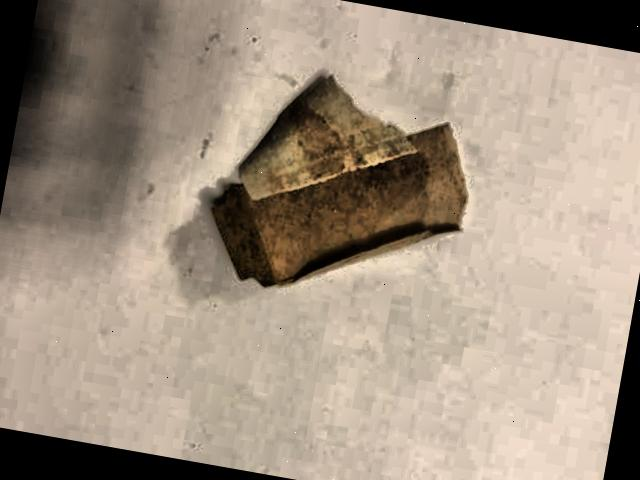Paper: (194, 48, 494, 324)
